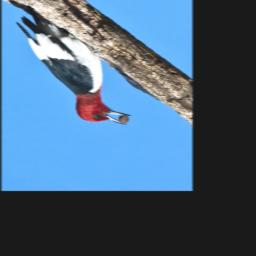Woodpecker: (14, 12, 133, 128)
